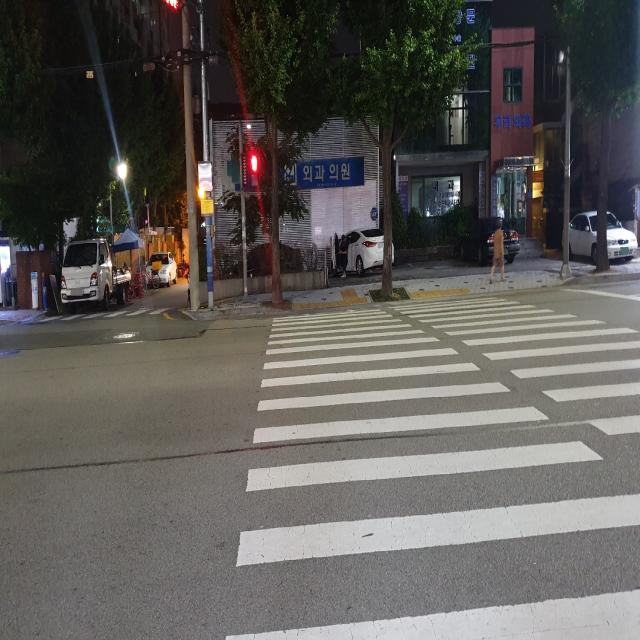빨간불: (242, 151, 259, 189)
횡단보도: (223, 295, 640, 640)
